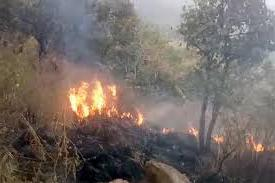fire: (65, 74, 150, 128)
